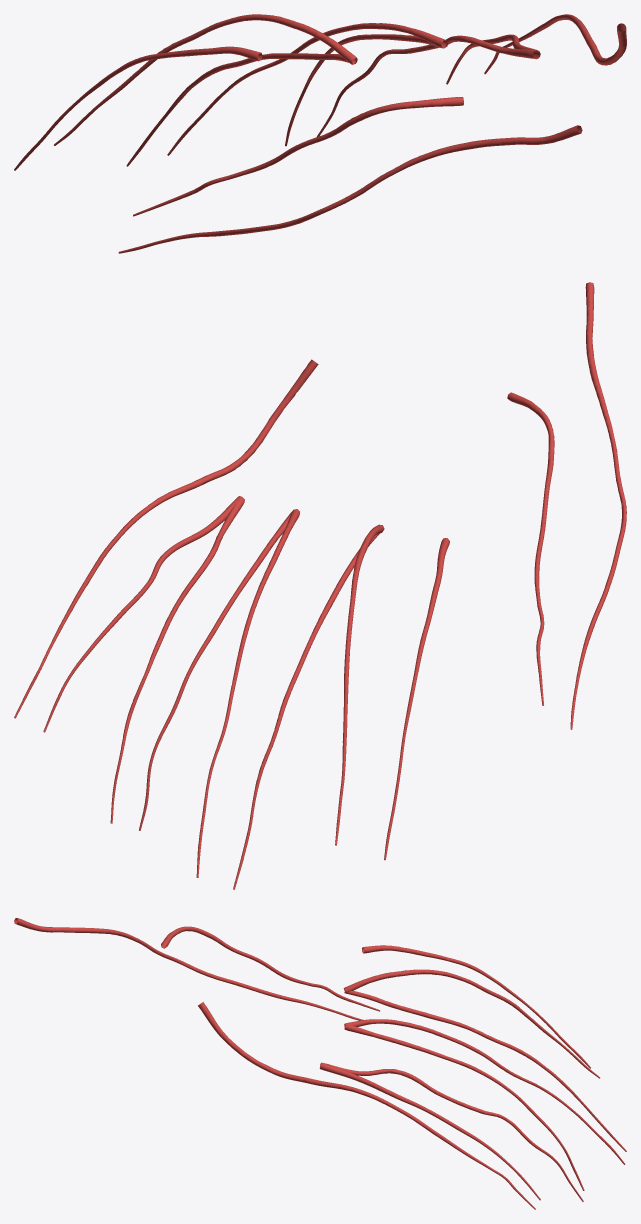
3 renders of one model, top to bottom at view 1: azimuth 30°, elevation 25°; view 2: azimuth 150°, elevation 25°; view 3: azimuth 270°, elevation 25°, orthographic. The views are drawn at different scales.
Parts seen in each view (by area): view 1: 右侧指掌侧固有动脉; view 2: 右侧指掌侧固有动脉; view 3: 右侧指掌侧固有动脉.
Part boxes in pixels (bbox=[...]): 右侧指掌侧固有动脉: bbox=[14, 14, 626, 253]; 右侧指掌侧固有动脉: bbox=[14, 282, 626, 889]; 右侧指掌侧固有动脉: bbox=[14, 918, 626, 1209].
Size of the model in its own units: 0.1576 by 0.1052 by 0.2368.
